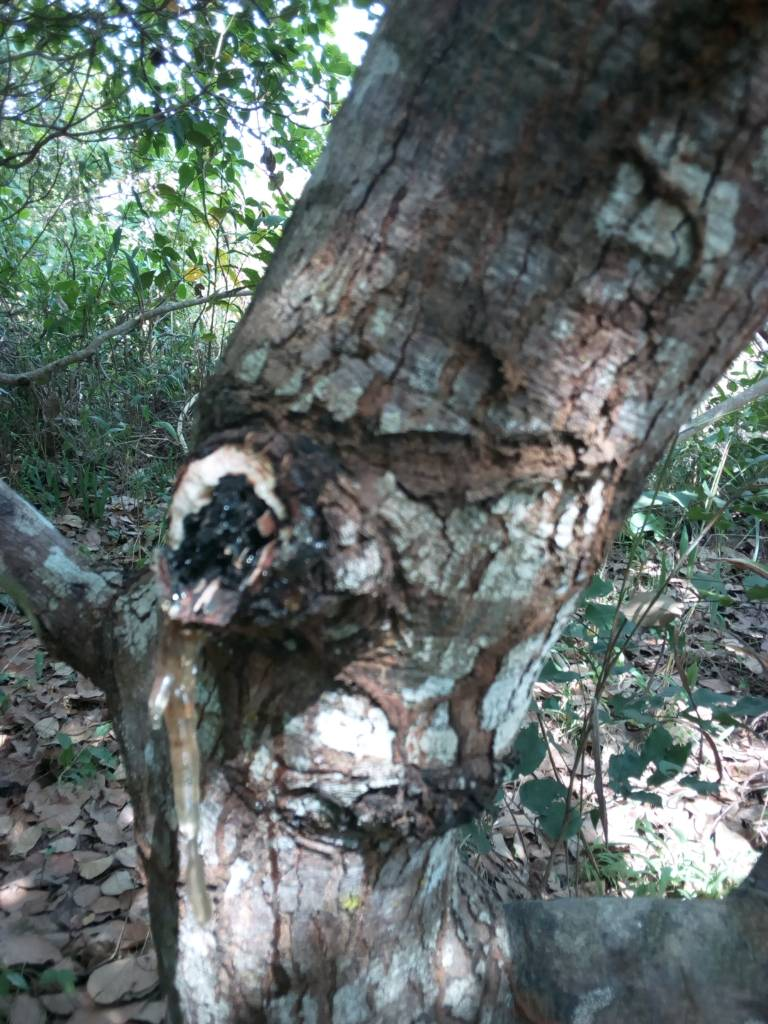Termites: (382, 47, 638, 564), (338, 650, 508, 789)
